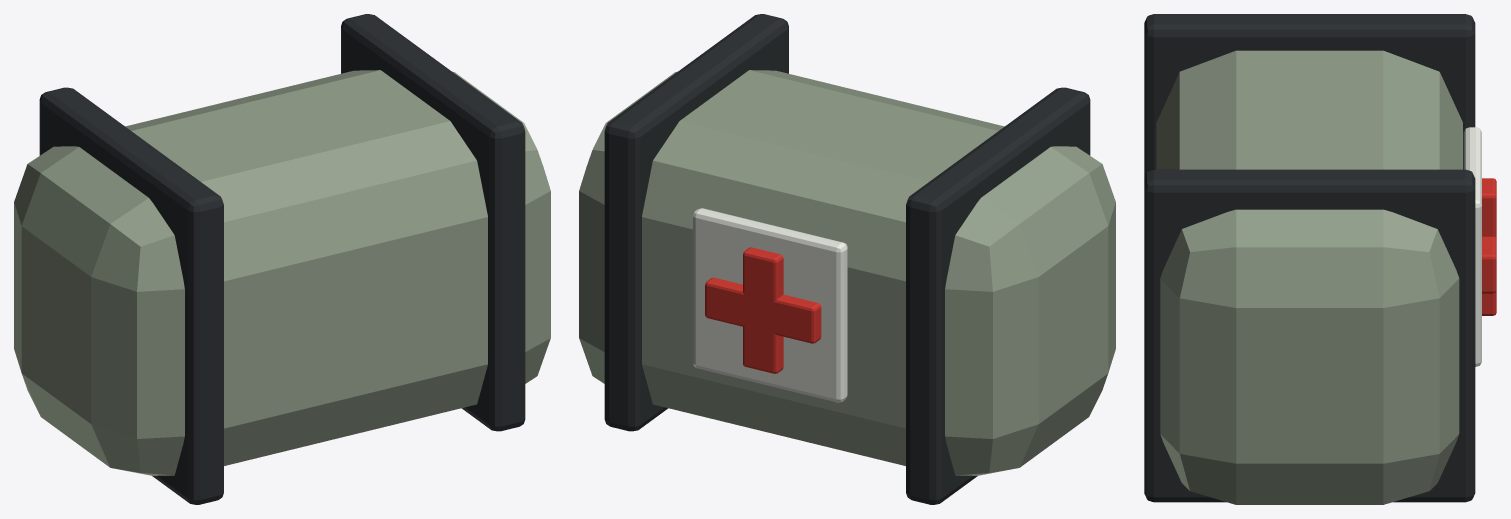
Rendered from SM_MedicalBag.glb.
3 renders of one model, left to right at view 1: azimuth 30°, elevation 25°; view 2: azimuth 150°, elevation 25°; view 3: azimuth 270°, elevation 25°, orthographic. The views are drawn at different scales.
Parts seen in each view (by area): view 1: SM_MedicalBag; view 2: SM_MedicalBag; view 3: SM_MedicalBag.
Boxes of the visible parts, x1,y1,x2,y2 form: SM_MedicalBag: [14, 14, 550, 504]; SM_MedicalBag: [579, 14, 1115, 504]; SM_MedicalBag: [1144, 14, 1496, 504].
Bounding box in the file's own units: 0.45 × 0.29 × 0.2875.
